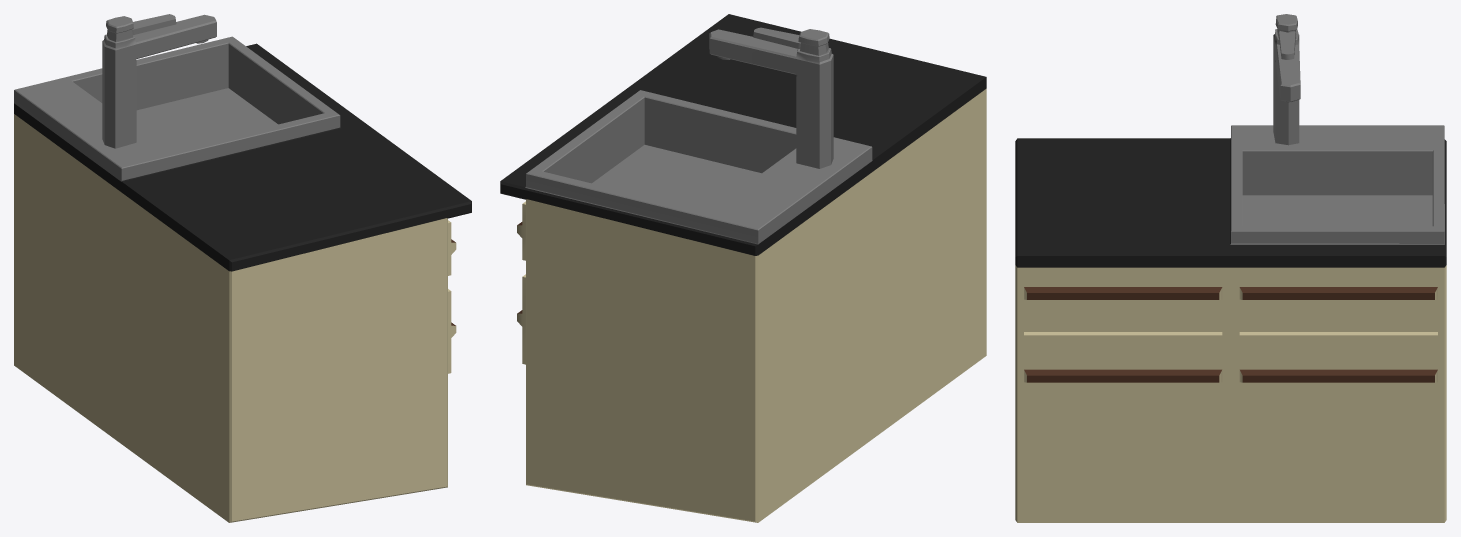
File: Bloc_cuisine_lavabo_text (1).fbx
The picture shows the model from 3 angles, left to right: view 1: azimuth 30°, elevation 25°; view 2: azimuth 150°, elevation 25°; view 3: azimuth 270°, elevation 25°; orthographic projection. The views are drawn at different scales.
Visible parts, largest first — view 1: meuble_cuisine1; view 2: meuble_cuisine1; view 3: meuble_cuisine1.
Part boxes in pixels (bbox=[...]): meuble_cuisine1: bbox=[14, 14, 471, 522]; meuble_cuisine1: bbox=[500, 14, 986, 522]; meuble_cuisine1: bbox=[1015, 14, 1446, 522].
Bounding box in the file's own units: 64.38 × 105 × 99.72.
1 material, 1 textured.
